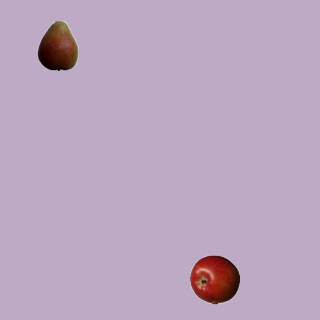Apple Braeburn: (189, 254, 239, 304)
Pear Forelle: (32, 20, 82, 70)
